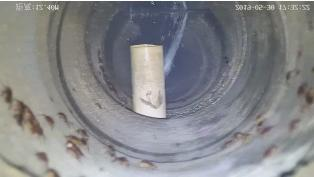ZGAJ: (130, 45, 165, 118)
